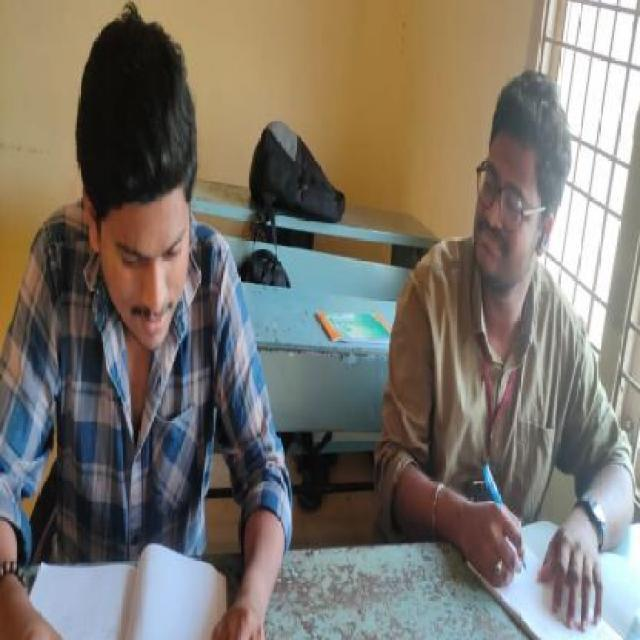cheating: (366, 53, 640, 640)
good: (0, 6, 310, 640)
